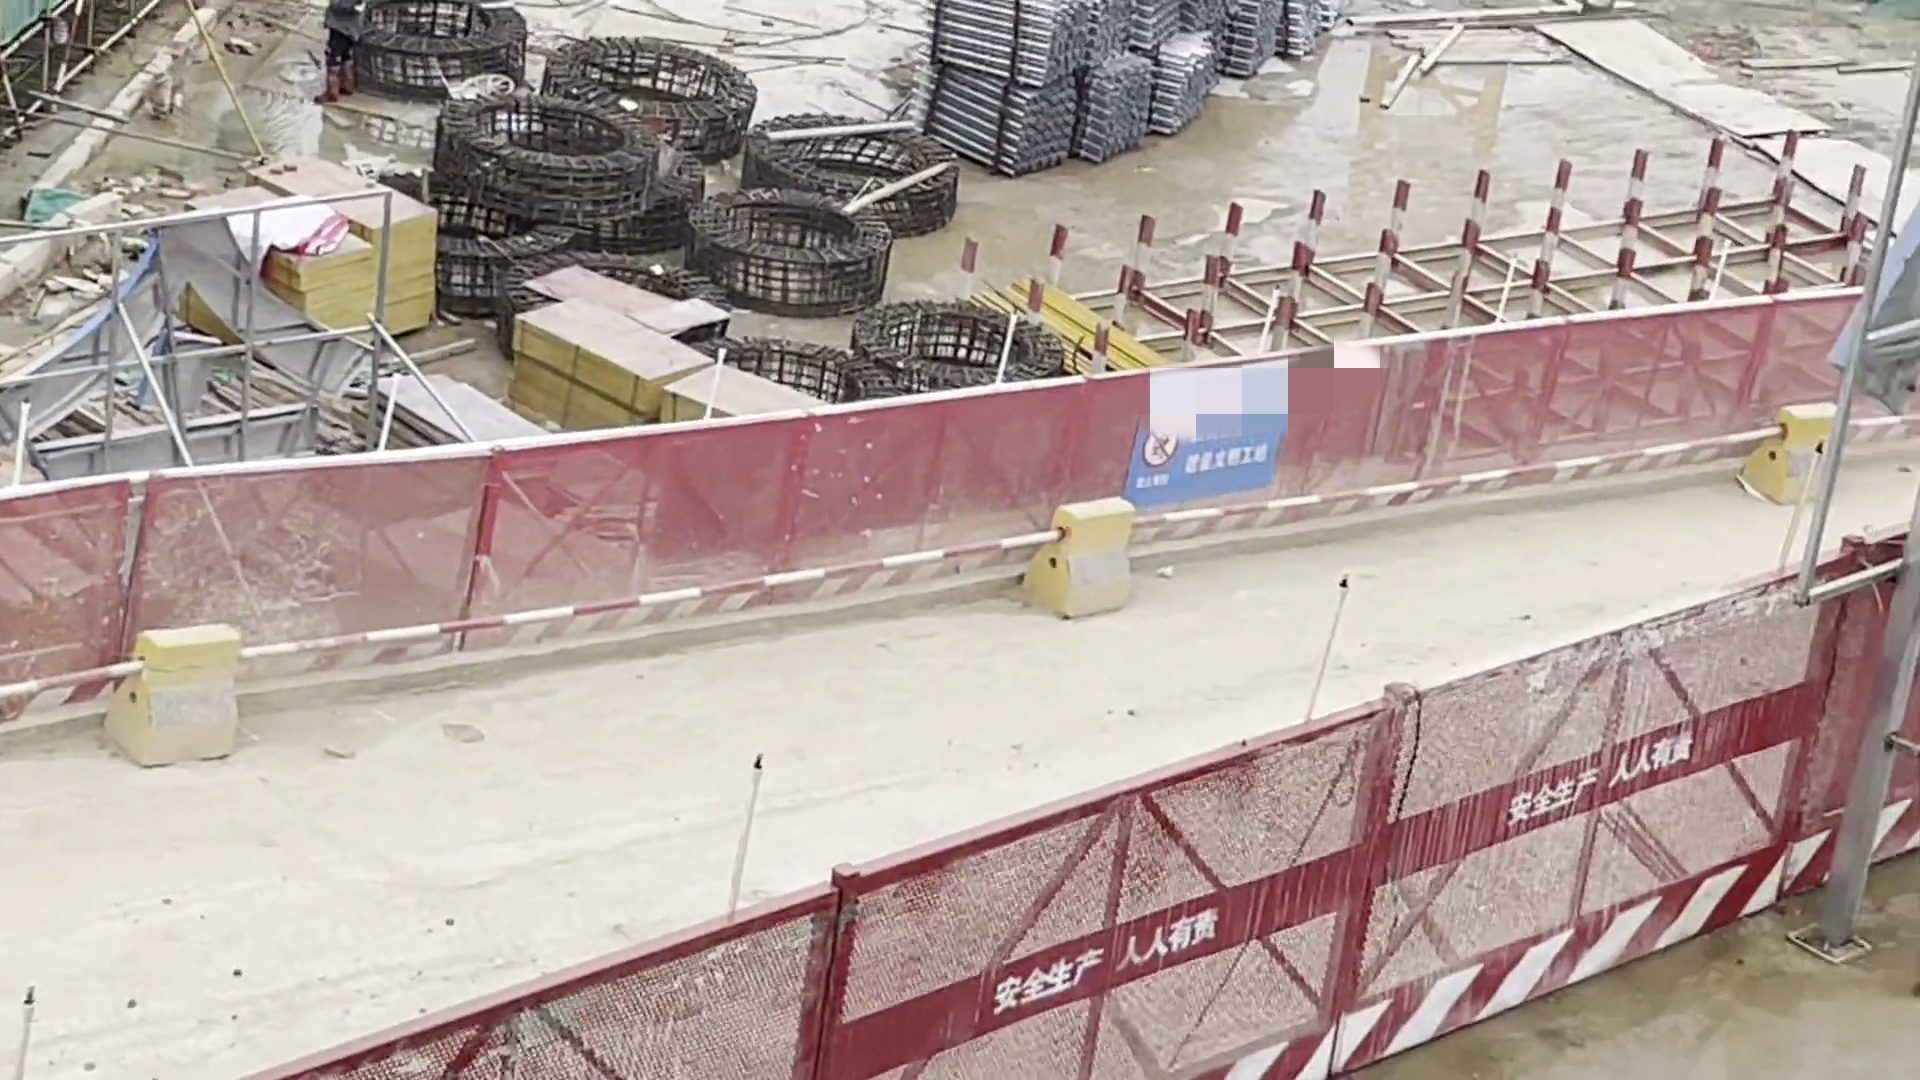fence: (1, 309, 1855, 688), (272, 709, 1789, 1080)
scaffold: (909, 67, 1071, 174), (923, 1, 1081, 80), (1088, 53, 1154, 164), (1163, 36, 1226, 136), (1192, 1, 1280, 66), (1079, 1, 1135, 70), (1276, 1, 1329, 63), (1129, 1, 1191, 51)
slogan: (202, 144, 442, 342), (498, 301, 659, 442), (1127, 386, 1304, 506), (665, 357, 829, 433)
